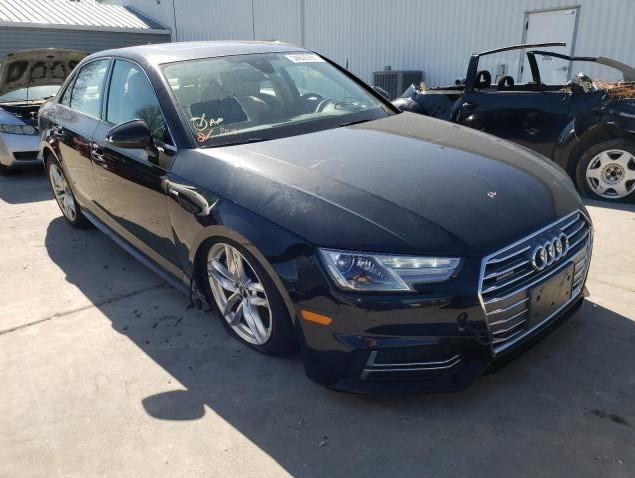Back-door: (54, 57, 112, 233)
Back-wheel: (45, 152, 88, 227)
Back-window: (59, 61, 109, 118)
Fender: (168, 175, 340, 312)
Front-bumper: (285, 258, 496, 396)
Front-door: (91, 57, 198, 301)
Front-wheel: (193, 240, 292, 354)
Front-window: (104, 60, 173, 147)
Grille: (476, 211, 593, 368)
Headlight: (315, 248, 460, 294)
Hood: (165, 110, 582, 258)
License-plate: (529, 262, 575, 333)
Mirror: (105, 119, 171, 150), (392, 97, 418, 111)
Quarter-panel: (38, 97, 59, 166)
Roof: (83, 40, 308, 66)
Windshield: (160, 51, 399, 149)
